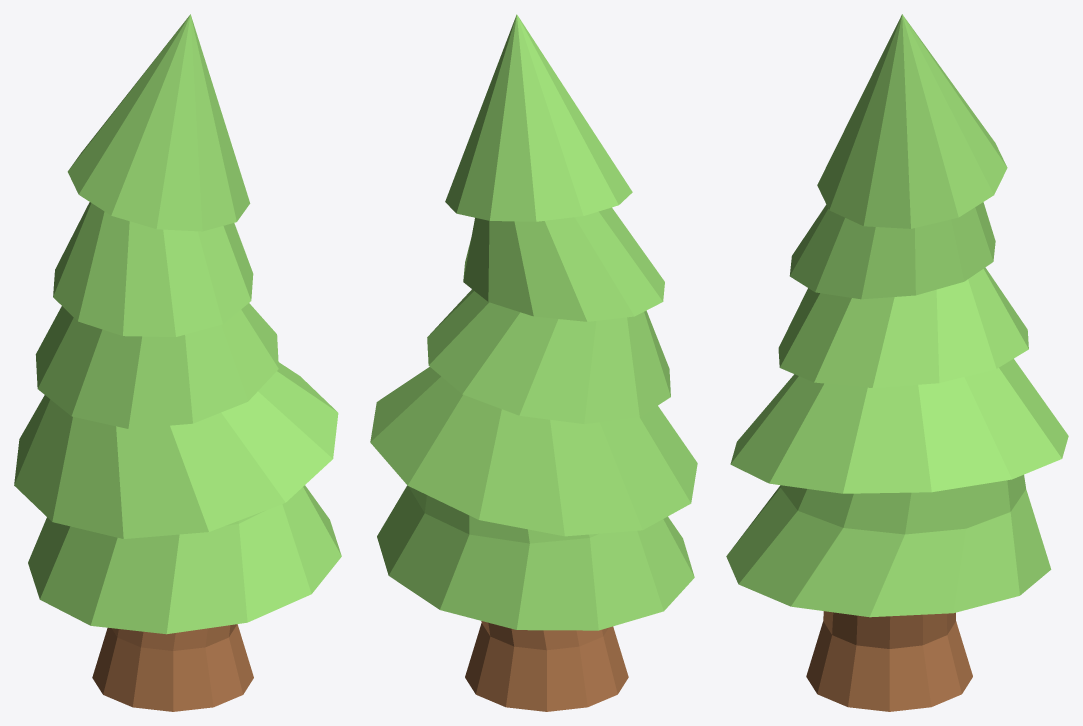
Rendered from Tree1.fbx.
3 renders of one model, left to right at view 1: azimuth 30°, elevation 25°; view 2: azimuth 150°, elevation 25°; view 3: azimuth 270°, elevation 25°, orthographic. The views are drawn at different scales.
Visible parts, largest first — view 1: Tree1; view 2: Tree1; view 3: Tree1.
Part boxes in pixels (x1,y1,x2,y2): Tree1: [14, 14, 341, 711]; Tree1: [370, 14, 697, 711]; Tree1: [726, 14, 1068, 711].
Bounding box in the file's own units: 398 × 891 × 410.
